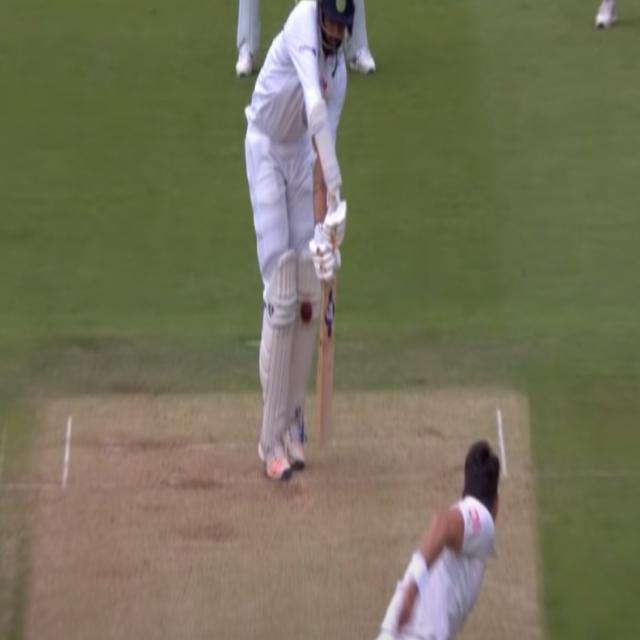ball: (298, 298, 316, 328)
